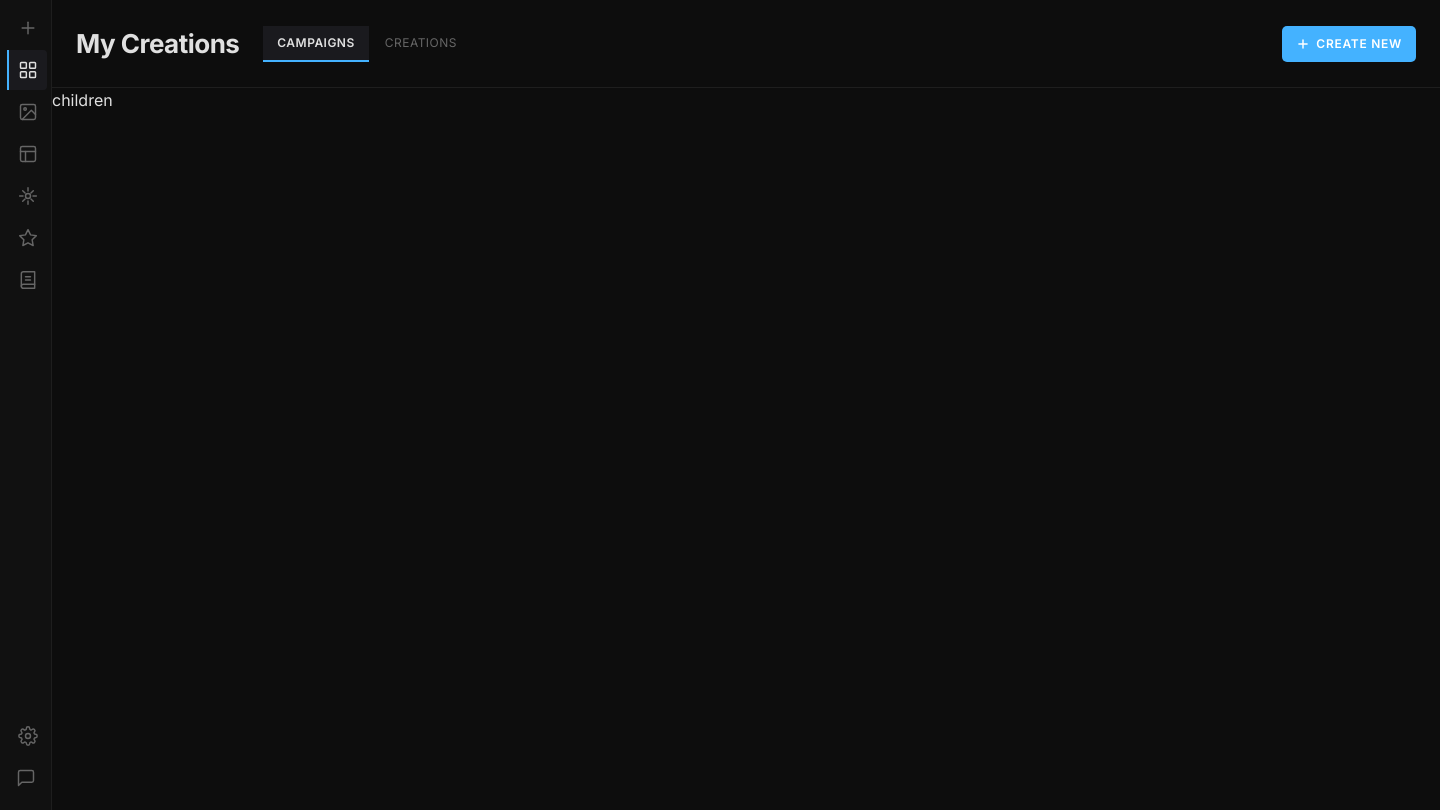
Scenario: AppShell — CreateNewChoiceModal a11y › Escape key closes the modal (fixed by Radix Dialog)
# Open the modal
Click the button titled "Create new campaign or asset" at (1349, 44), box [1282, 26, 1416, 62]
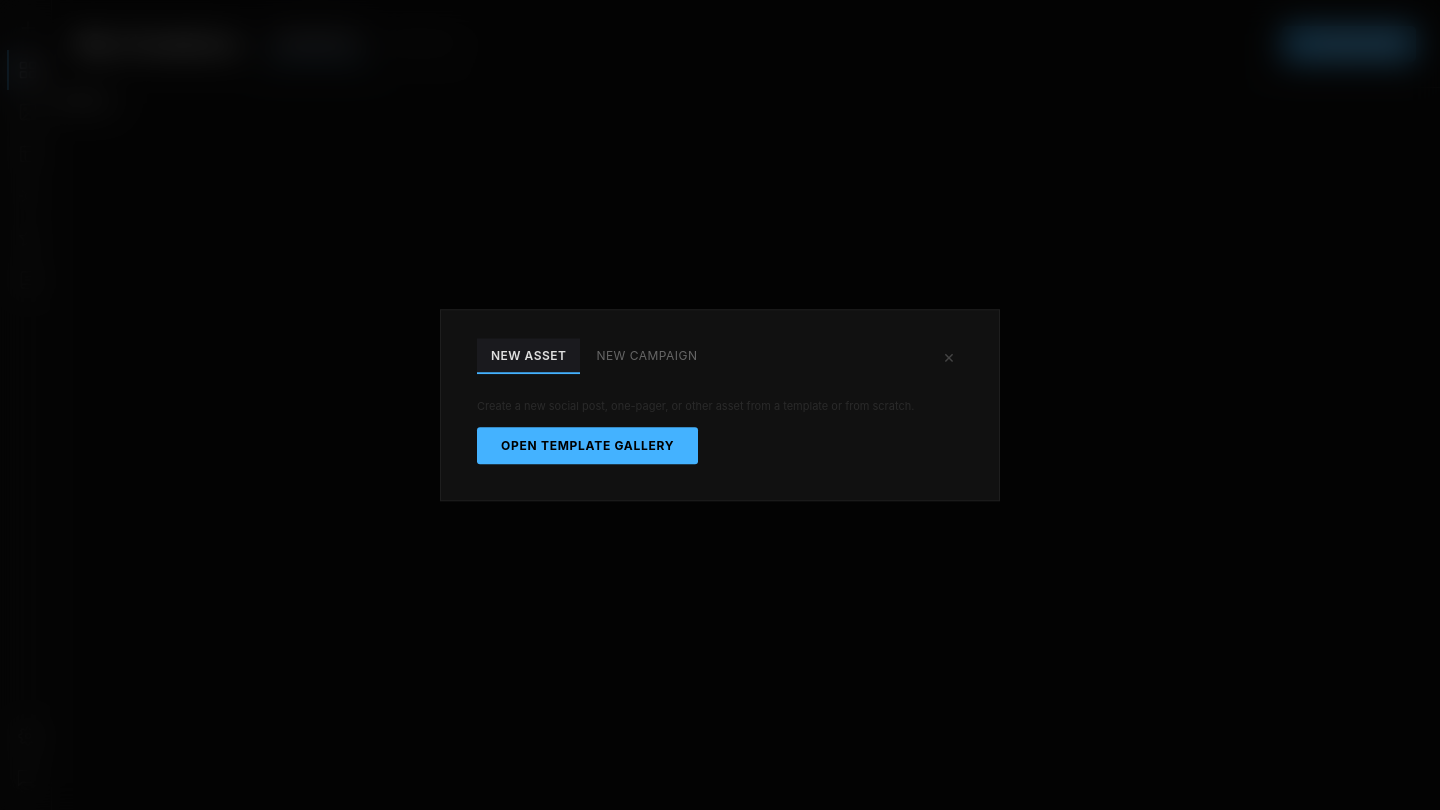
Expected: the button "Open template gallery" is shown, [477, 427, 698, 464]
# Press Escape — Radix Dialog closes on Escape by default
Press Escape
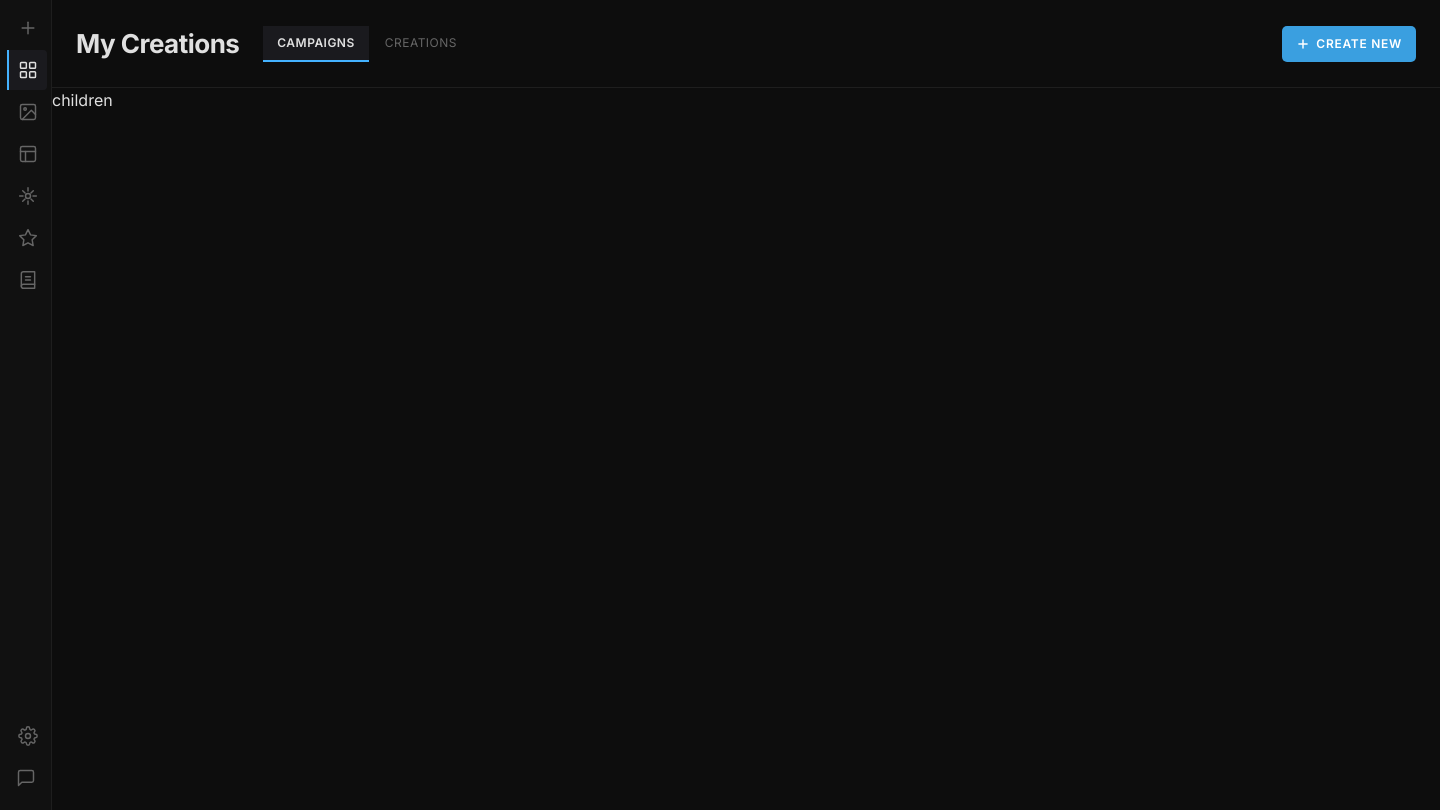
Expected: the button "Open template gallery" is gone
